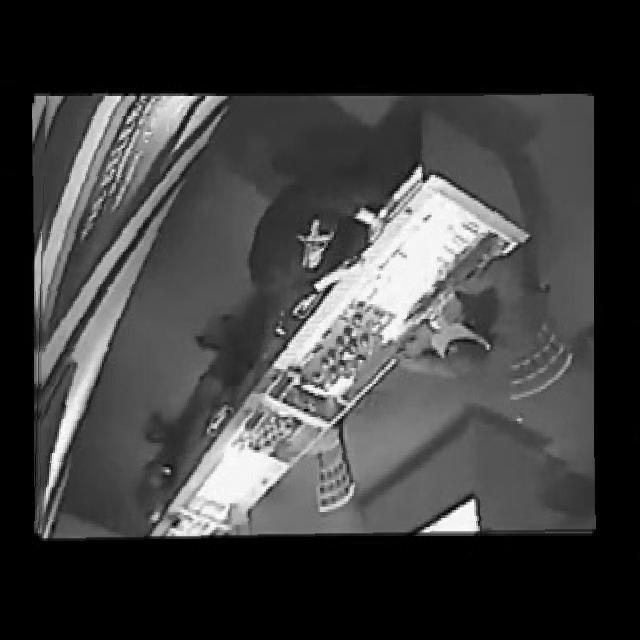Normal: (33, 96, 594, 538)
